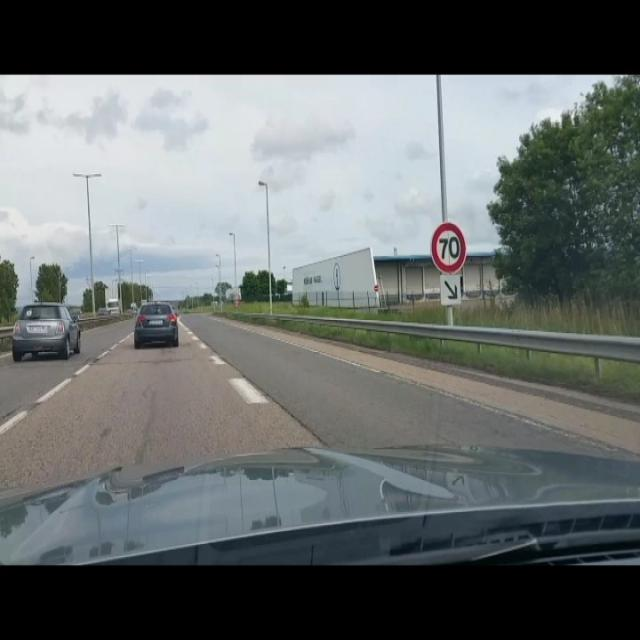side_right: (441, 276, 461, 304)
speed_70: (430, 222, 467, 275)
